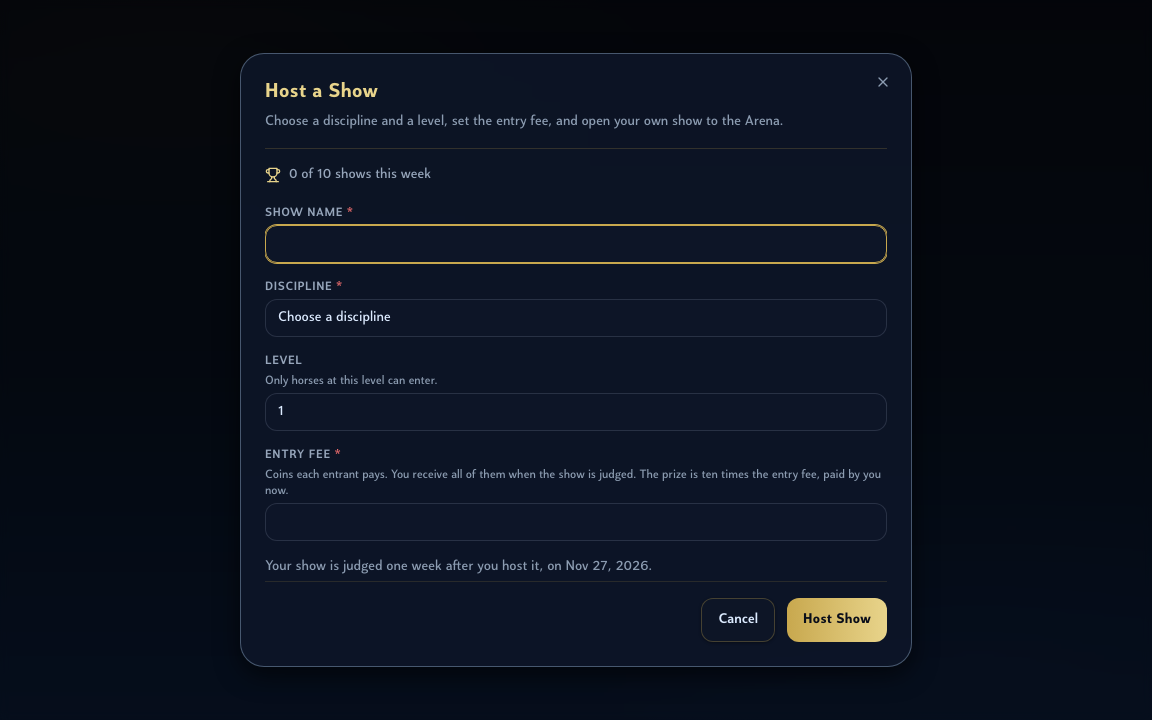
CreateShowDialog (Equoria-oey96.13) › labels a free show as free on the button
The image size is (1152, 720).
In the field labelled "Show name *": (576, 244) [265, 225, 887, 263], type "Starlit Dressage Cup"
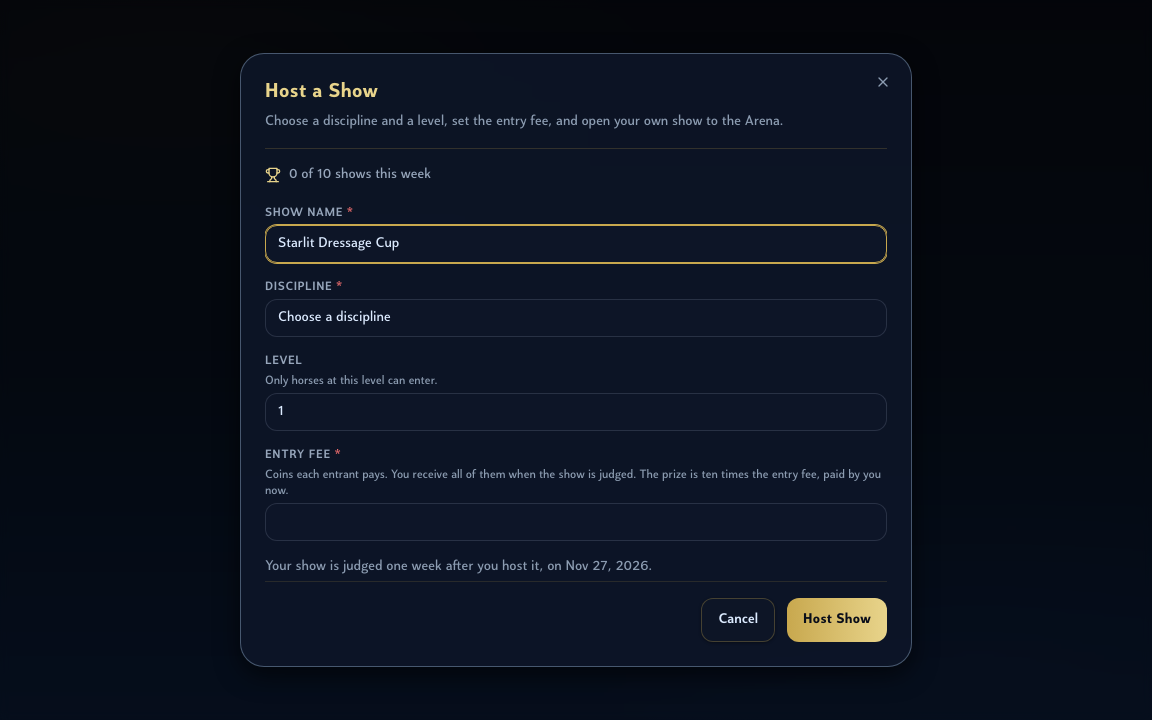
Select "Dressage" in the dropdown labelled "Discipline *": (576, 318) [265, 299, 887, 337]
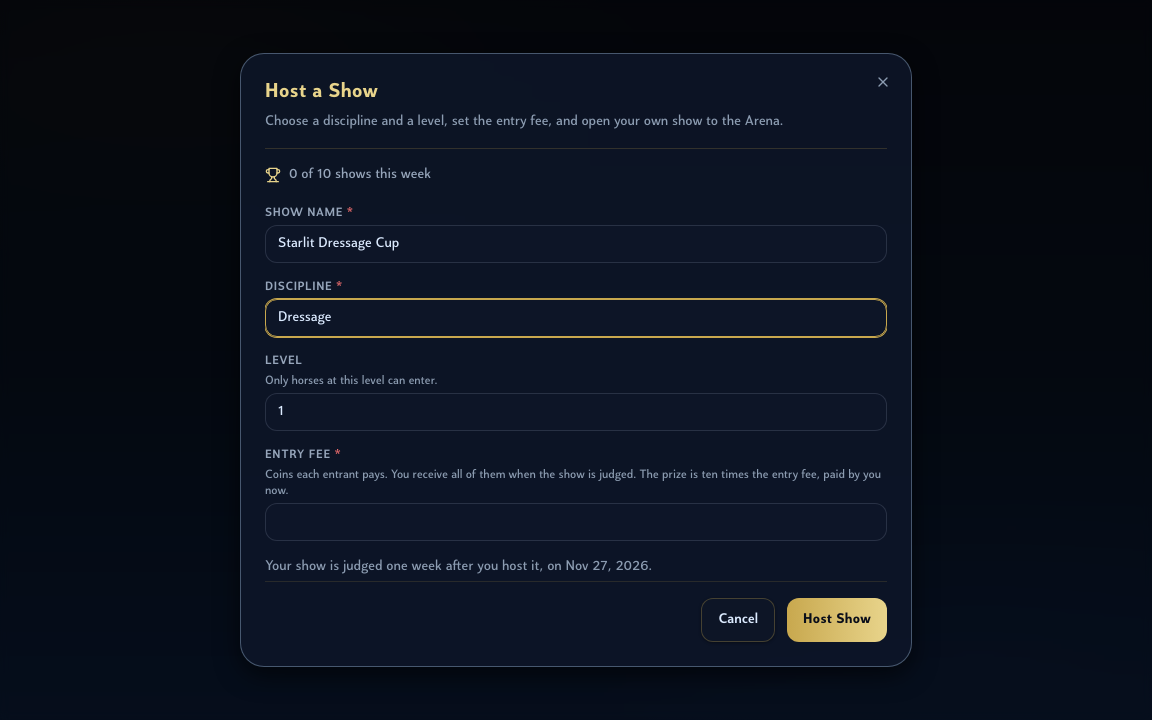
Select "3" in the dropdown labelled "Level": (576, 412) [265, 393, 887, 431]
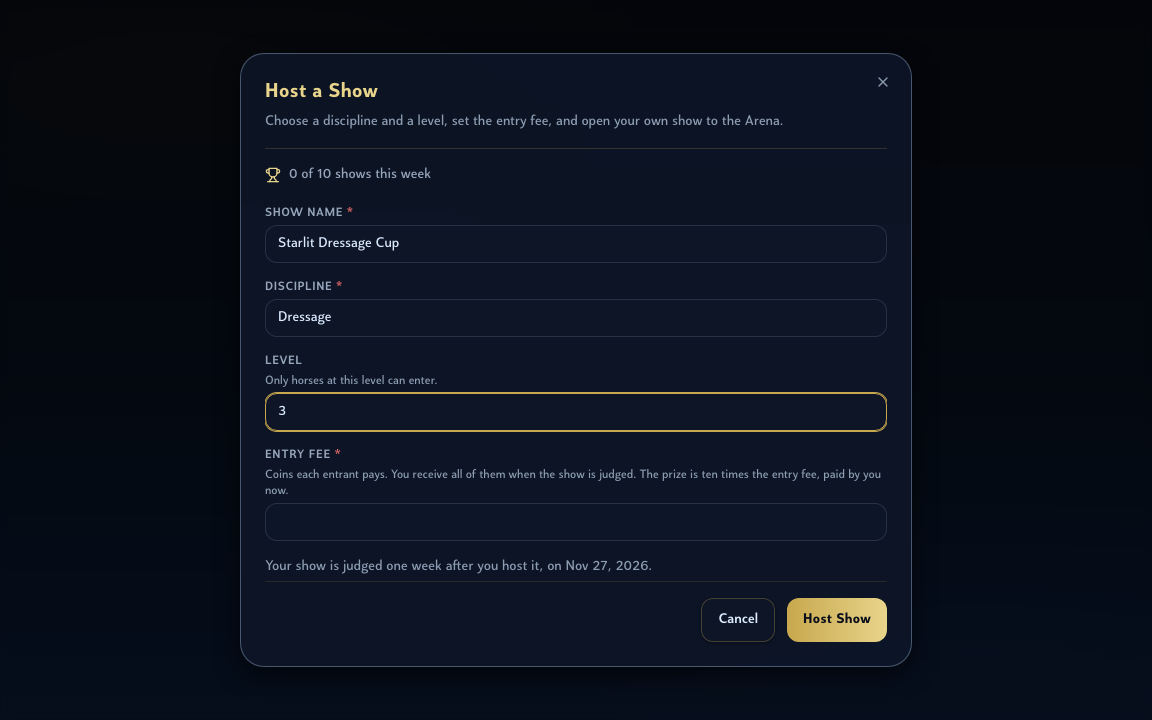
In the number field labelled "Entry fee *": (576, 522) [265, 503, 887, 541], type "0"
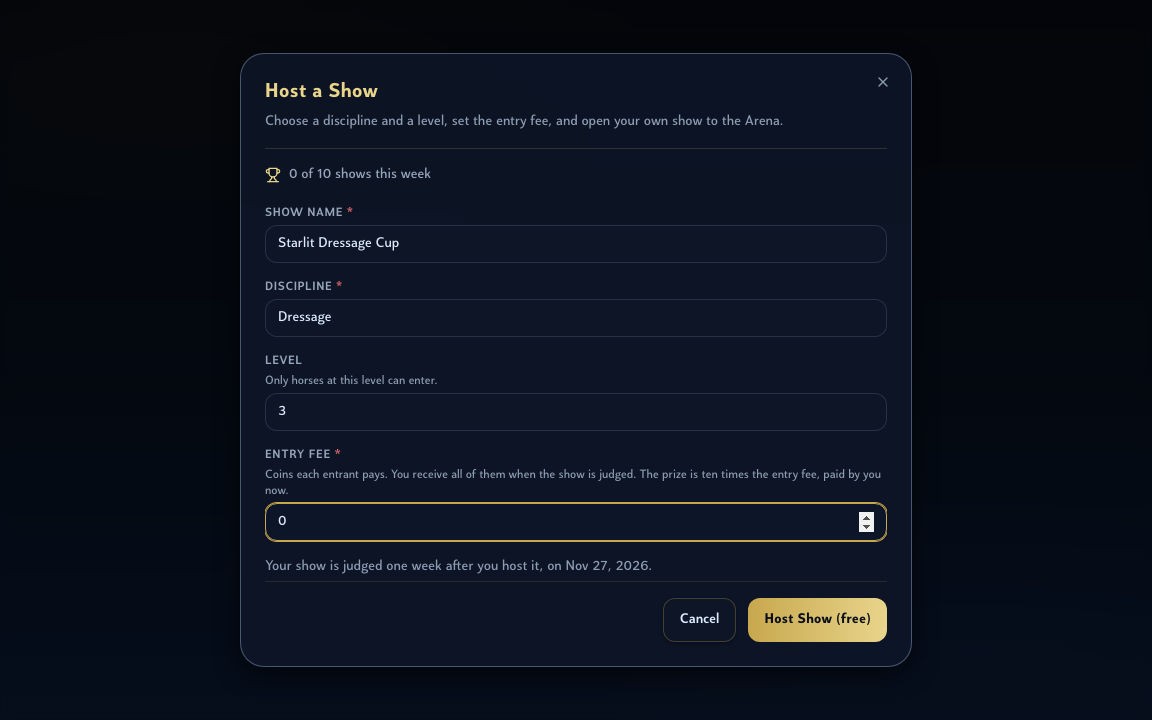
Expected: the button "Host Show (free)" is shown, [748, 598, 887, 642]
